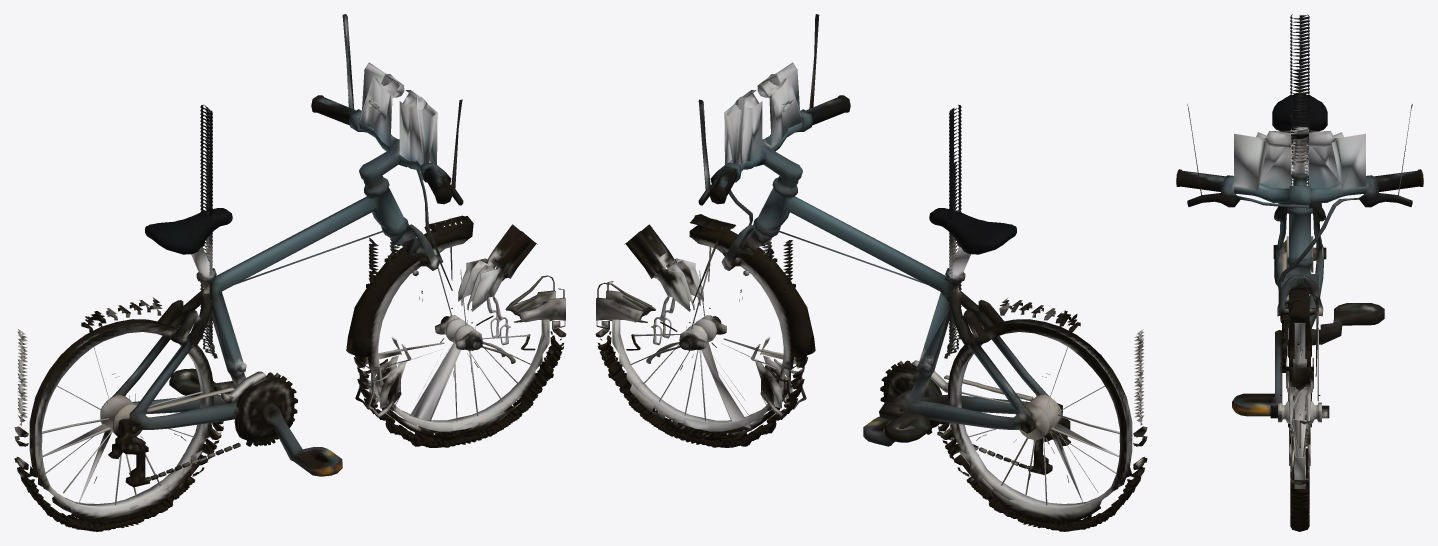
Rendered from Vehicles__broken_bycicle_3b682d62_v4.cluster.glb.
The picture shows the model from 3 angles, left to right: view 1: azimuth 30°, elevation 25°; view 2: azimuth 150°, elevation 25°; view 3: azimuth 270°, elevation 25°; orthographic projection. The views are drawn at different scales.
Parts seen in each view (by area): view 1: material; view 2: material; view 3: material.
Part boxes in pixels (x1=…): material: x1=14, y1=14, x2=566, y2=531; material: x1=595, y1=14, x2=1147, y2=531; material: x1=1176, y1=14, x2=1423, y2=531.
Size of the model in its own units: 1.9 by 1.34 by 0.7791.
Materials: 1 (1 with a texture image).
